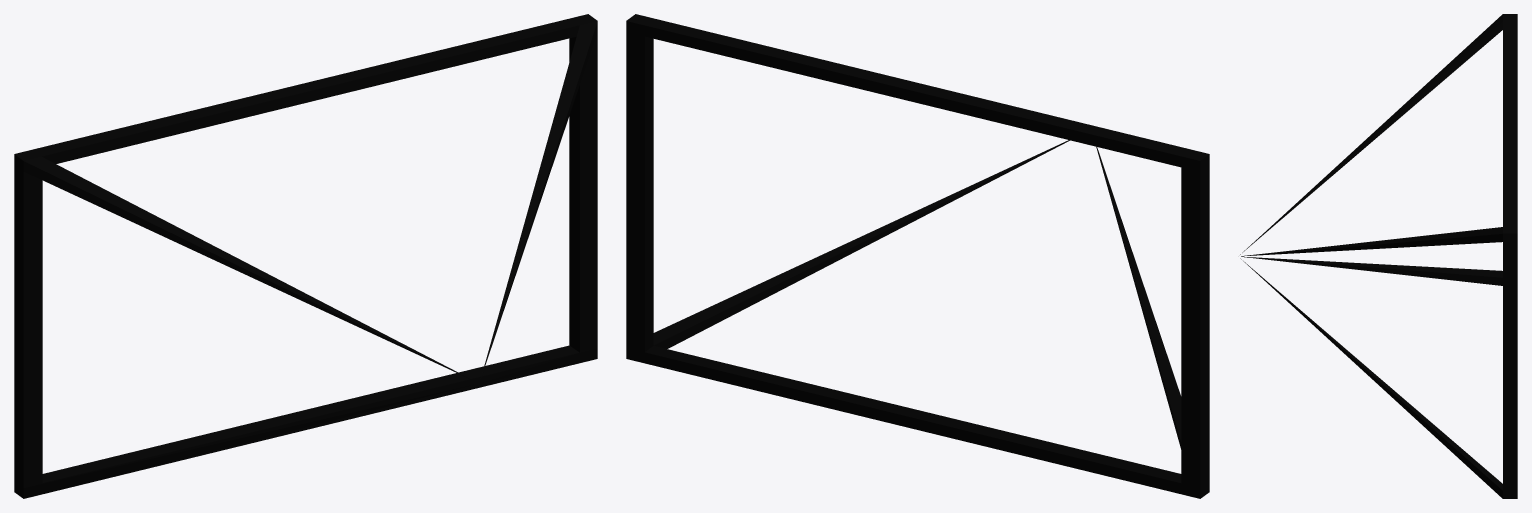
The model's file is Camera.obj.
3 views of the same model, side by side, from view 1: azimuth 30°, elevation 25°; view 2: azimuth 150°, elevation 25°; view 3: azimuth 270°, elevation 25° (orthographic). The views are drawn at different scales.
Parts seen in each view (by area): view 1: Cube; view 2: Cube; view 3: Cube.
Part boxes in pixels (<box>): Cube: <box>14,14,597,498</box>; Cube: <box>626,14,1209,498</box>; Cube: <box>1240,14,1517,498</box>.
Bounding box in the file's own units: 3.2 × 1.8 × 1.72.
Materials: 1 (1 with a texture image).
